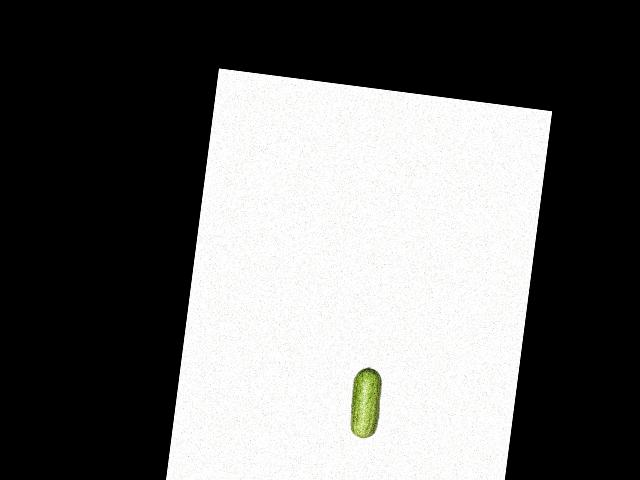cucumber: (347, 365, 384, 439)
